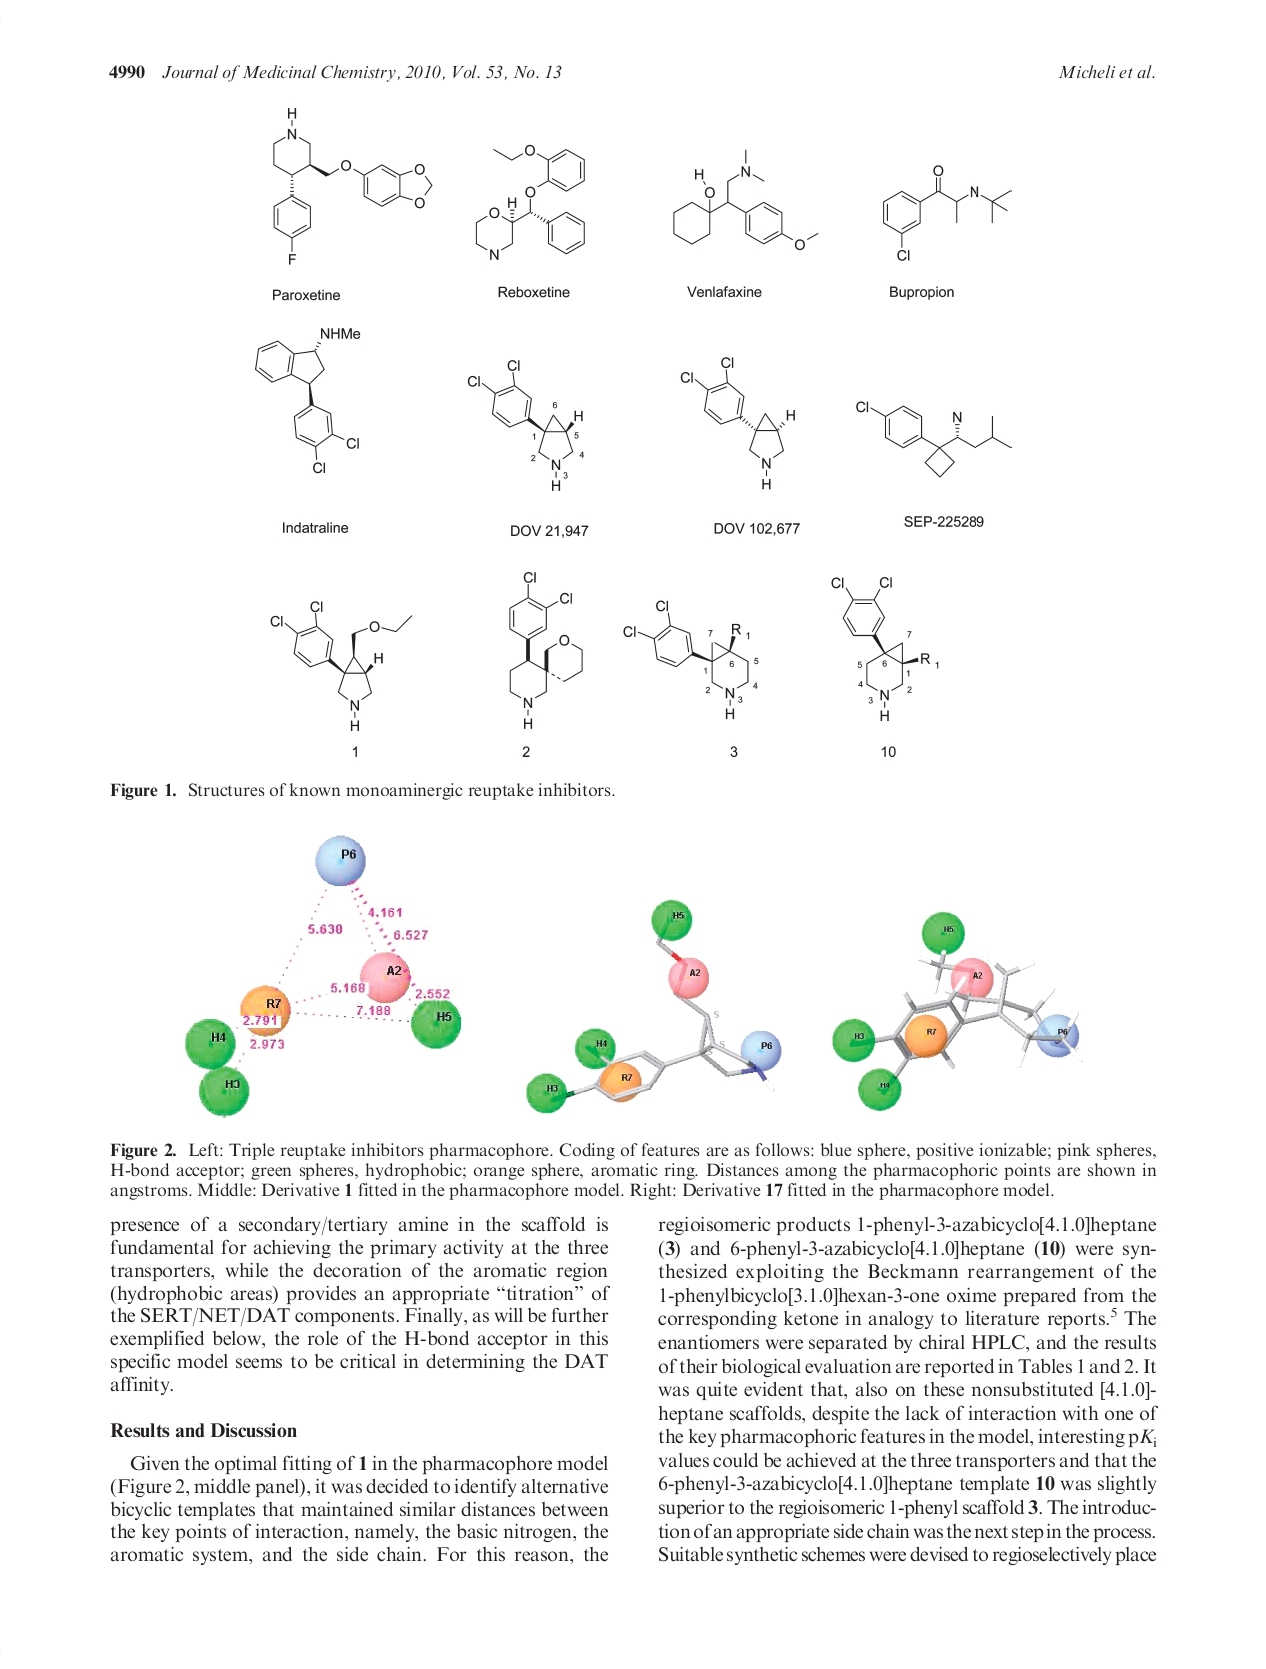exist_molecular: (266, 104, 435, 269), (270, 601, 414, 731), (622, 596, 763, 722), (253, 321, 363, 475), (827, 573, 942, 719), (676, 352, 795, 491), (465, 356, 585, 493), (668, 148, 819, 251), (851, 398, 1015, 480), (473, 145, 586, 263), (879, 164, 1015, 261), (503, 569, 584, 731)
